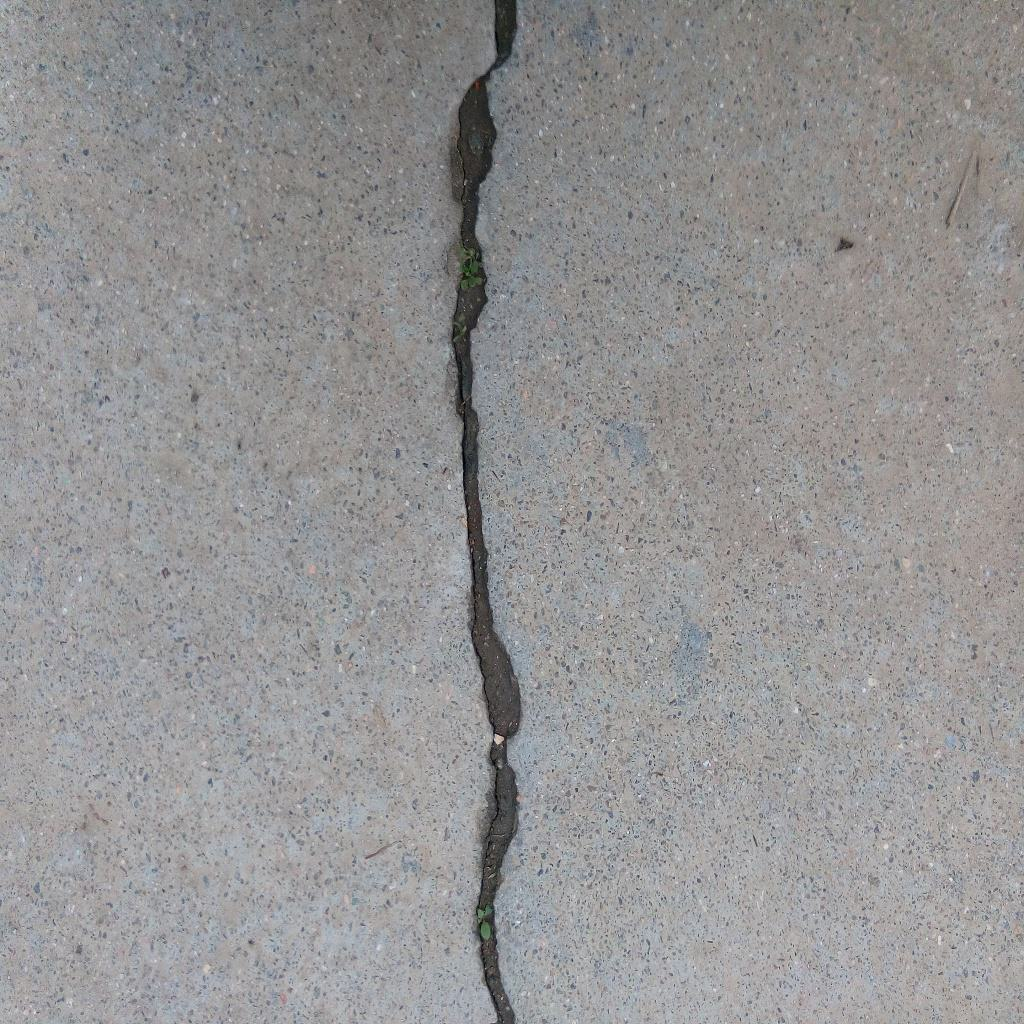Crack: (448, 1, 524, 1024)
